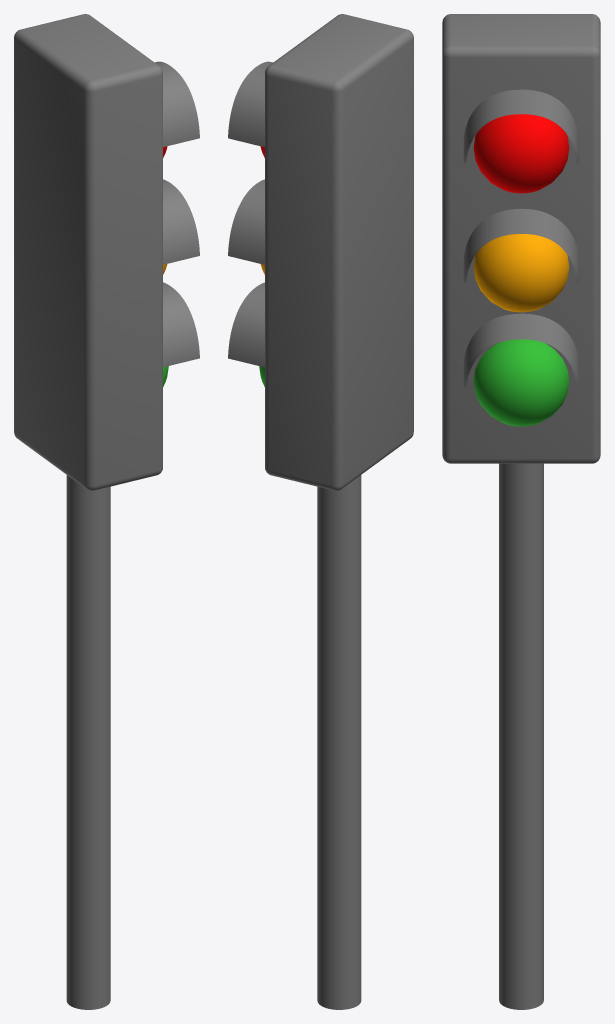
3 renders of one model, left to right at view 1: azimuth 30°, elevation 25°; view 2: azimuth 150°, elevation 25°; view 3: azimuth 270°, elevation 25°, orthographic.
Parts seen in each view (by area): view 1: 立方体, 圆柱, 挤压, 挤压.3, 挤压.3_1, 挤压.1; view 2: 立方体, 圆柱, 挤压, 挤压.3, 挤压.3_1, 挤压.1; view 3: 立方体, 圆柱, 球体.2, 球体, 球体.1, 挤压, 挤压.3, 挤压.3_1, 挤压.1.
Part boxes in pixels (x1=…): 立方体: x1=14, y1=14, x2=162, y2=490; 圆柱: x1=66, y1=475, x2=110, y2=1009; 挤压: x1=155, y1=61, x2=199, y2=147; 挤压.3: x1=163, y1=282, x2=199, y2=367; 挤压.3_1: x1=163, y1=204, x2=199, y2=264; 挤压.1: x1=163, y1=179, x2=187, y2=210; 立方体: x1=265, y1=14, x2=413, y2=490; 圆柱: x1=317, y1=475, x2=361, y2=1009; 挤压: x1=228, y1=61, x2=272, y2=147; 挤压.3: x1=228, y1=282, x2=264, y2=367; 挤压.3_1: x1=228, y1=203, x2=264, y2=264; 挤压.1: x1=241, y1=179, x2=264, y2=208; 立方体: x1=442, y1=14, x2=600, y2=463; 圆柱: x1=499, y1=463, x2=543, y2=1009; 球体.2: x1=473, y1=339, x2=569, y2=426; 球体: x1=473, y1=114, x2=569, y2=193; 球体.1: x1=473, y1=234, x2=569, y2=312; 挤压: x1=463, y1=89, x2=579, y2=163; 挤压.3: x1=463, y1=313, x2=579, y2=387; 挤压.3_1: x1=463, y1=217, x2=579, y2=283; 挤压.1: x1=488, y1=208, x2=553, y2=238.
Size of the model in its own units: 105 by 783 by 116.
